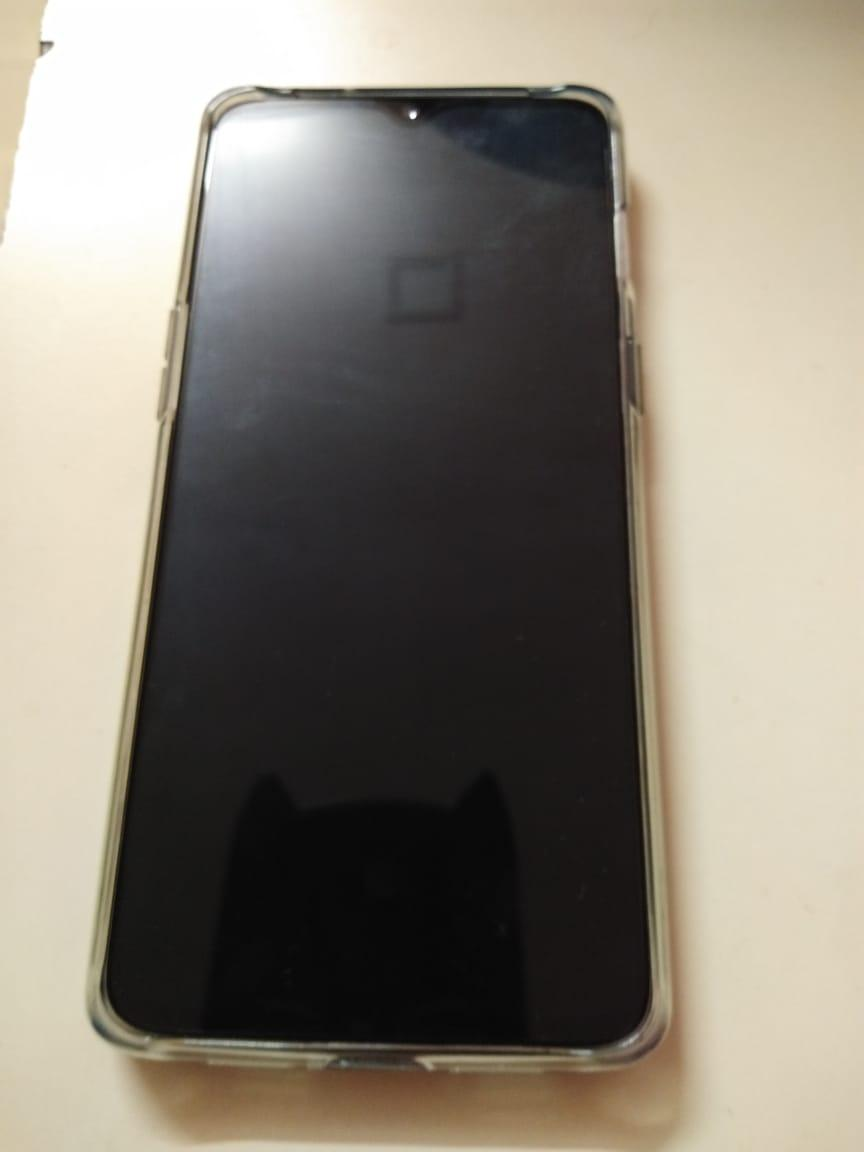Phone: (66, 62, 704, 1099)
